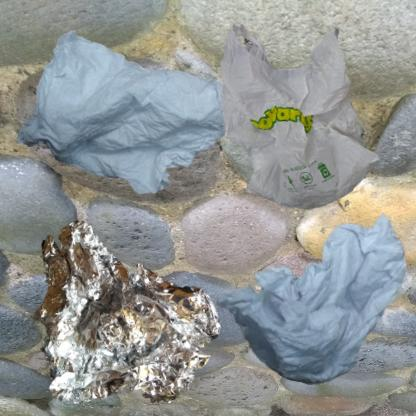aluminio: (10, 213, 243, 416)
bolsa: (213, 10, 389, 223)
papel: (10, 10, 284, 254), (213, 213, 409, 387)
